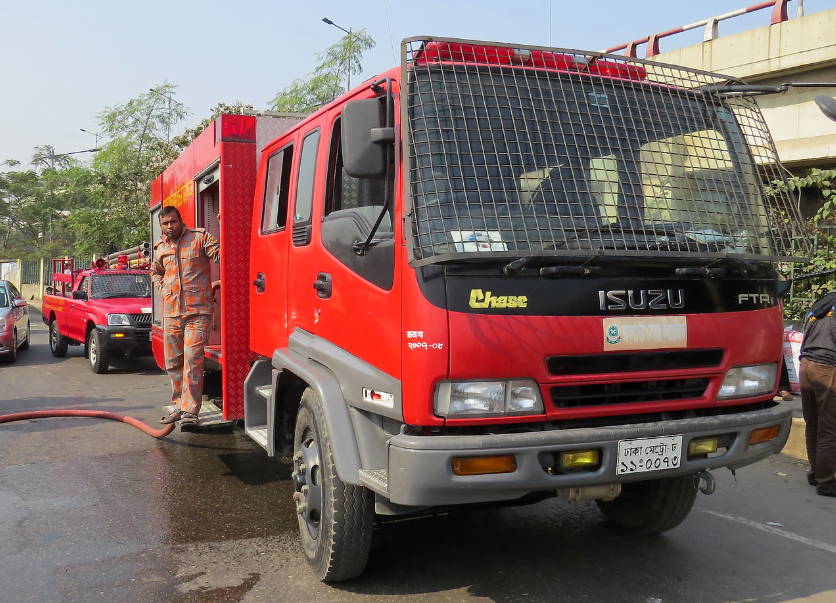Fire truck: (145, 21, 798, 576), (30, 249, 157, 381)
